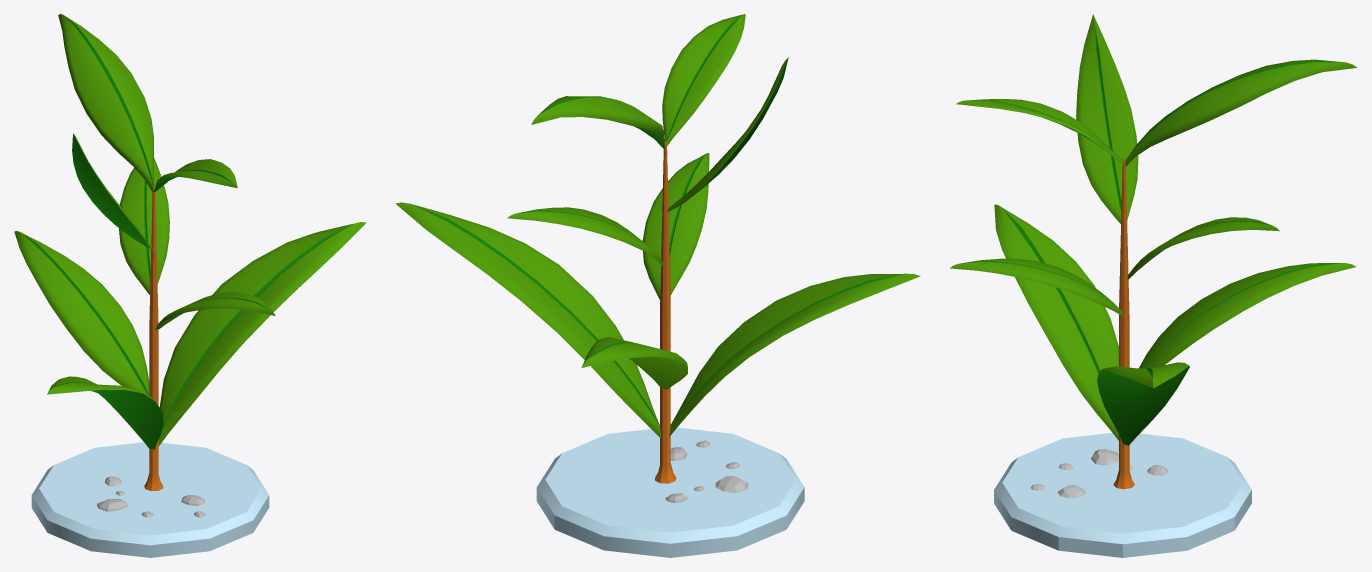
File: Herb1.fbx
The picture shows the model from 3 angles, left to right: view 1: azimuth 30°, elevation 25°; view 2: azimuth 150°, elevation 25°; view 3: azimuth 270°, elevation 25°; orthographic projection. The views are drawn at different scales.
Parts seen in each view (by area): view 1: Herb1_LOD0; view 2: Herb1_LOD0; view 3: Herb1_LOD0.
Part boxes in pixels (x1=…): Herb1_LOD0: x1=14, y1=14, x2=366, y2=557; Herb1_LOD0: x1=395, y1=14, x2=920, y2=557; Herb1_LOD0: x1=950, y1=14, x2=1356, y2=557.
Size of what is drawn, in the model's own units: 321 by 323 by 266.
